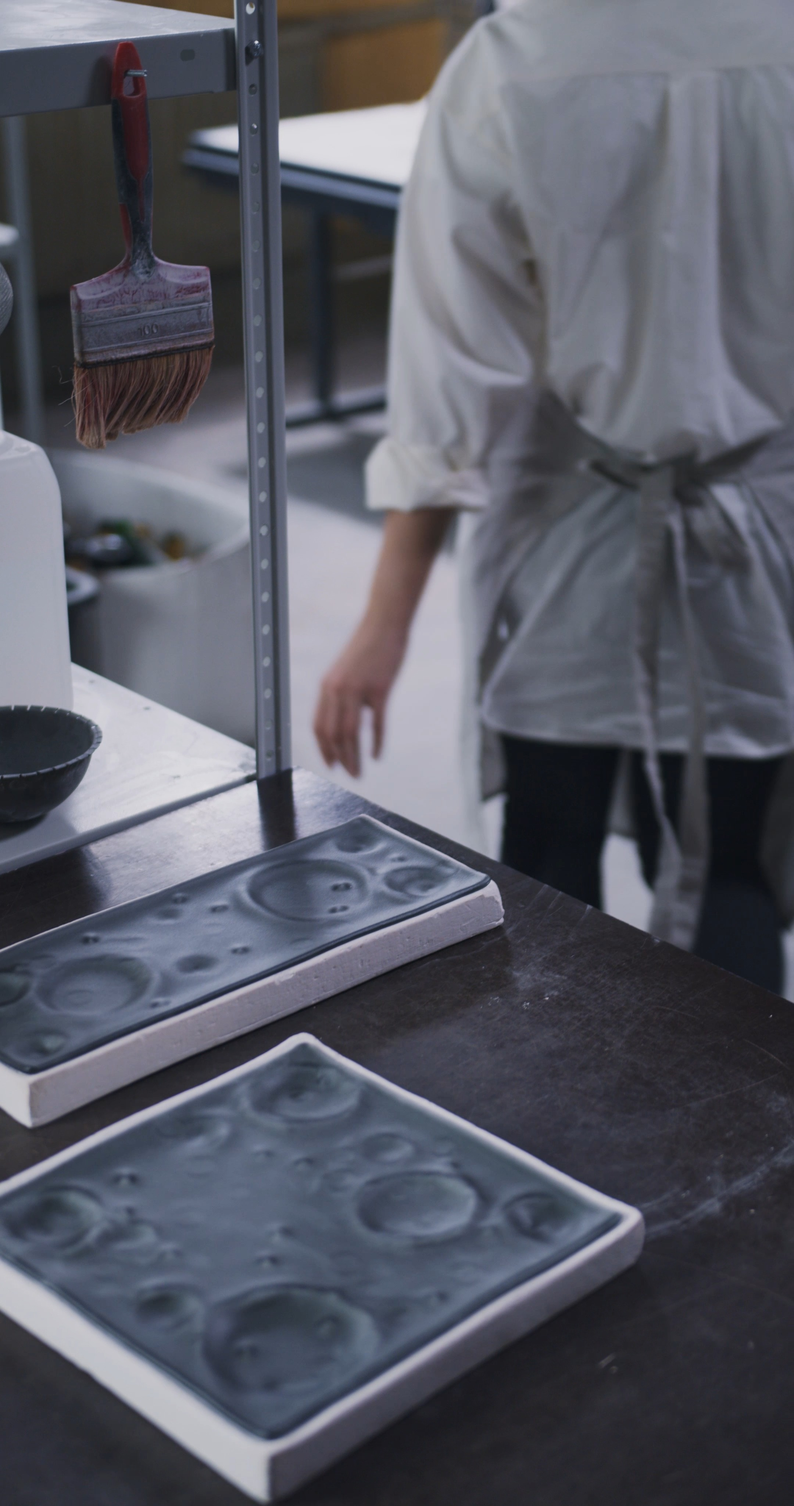No-gloves: (298, 621, 453, 810)
